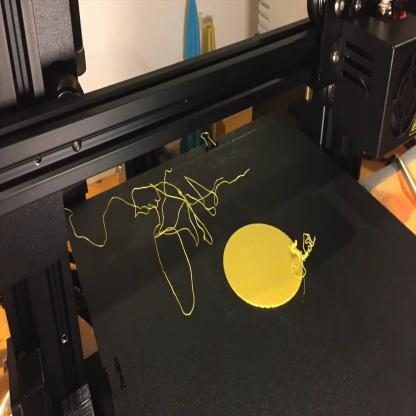fail: (128, 166, 220, 319), (289, 218, 322, 300)
